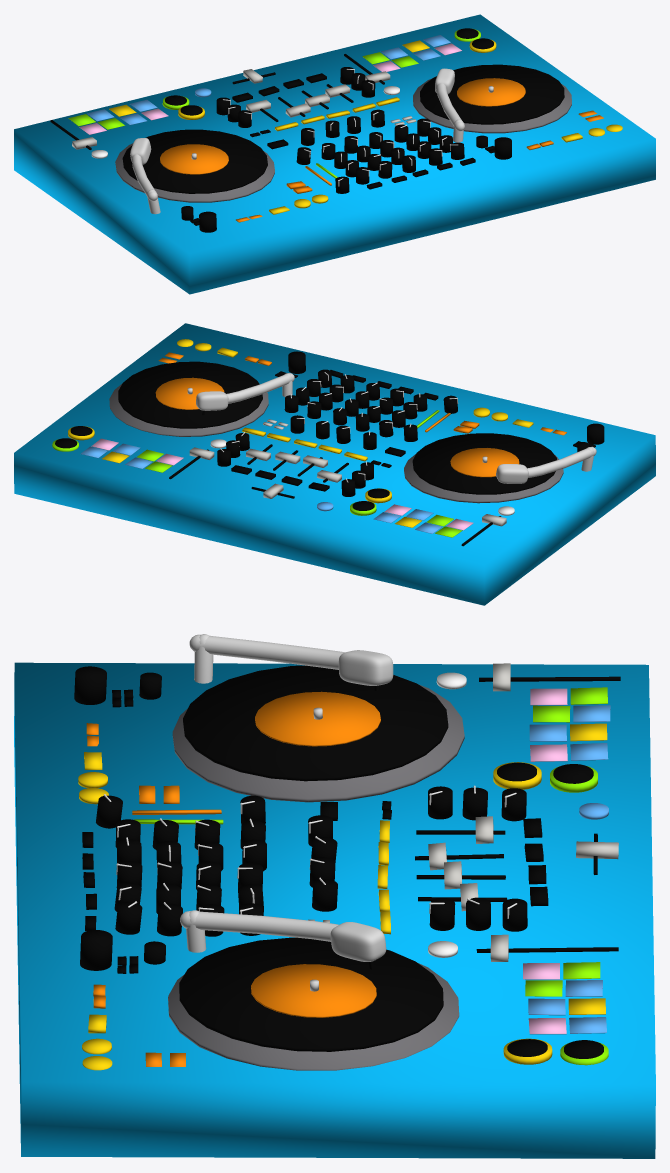
The model's file is turntable.glb.
3 views of the same model, one above another, from view 1: azimuth 30°, elevation 25°; view 2: azimuth 150°, elevation 25°; view 3: azimuth 270°, elevation 25° (orthographic). The views are drawn at different scales.
Parts seen in each view (by area): view 1: turntable2.001; view 2: turntable2.001; view 3: turntable2.001.
Part boxes in pixels (x1,y1,x2,y2): turntable2.001: (14, 14, 655, 294); turntable2.001: (14, 323, 655, 605); turntable2.001: (14, 634, 655, 1158).
Size of the model in its own units: 513 by 76.39 by 331.
